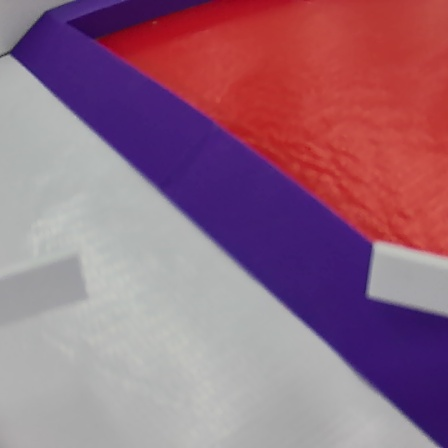red_aim: (10, 1, 446, 444)
